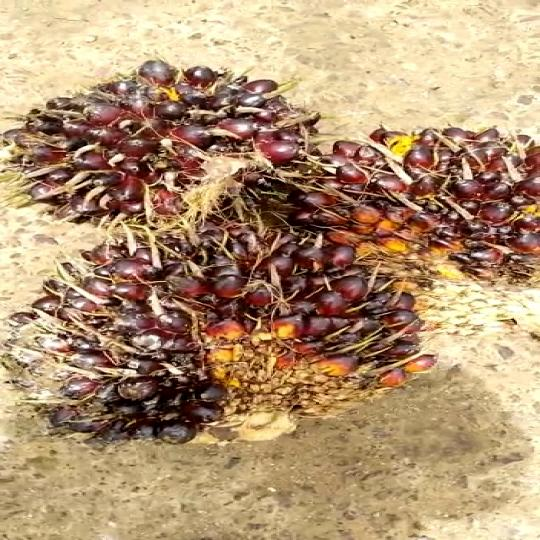kurang masak: (0, 210, 439, 447), (1, 49, 281, 244), (260, 124, 540, 318)
